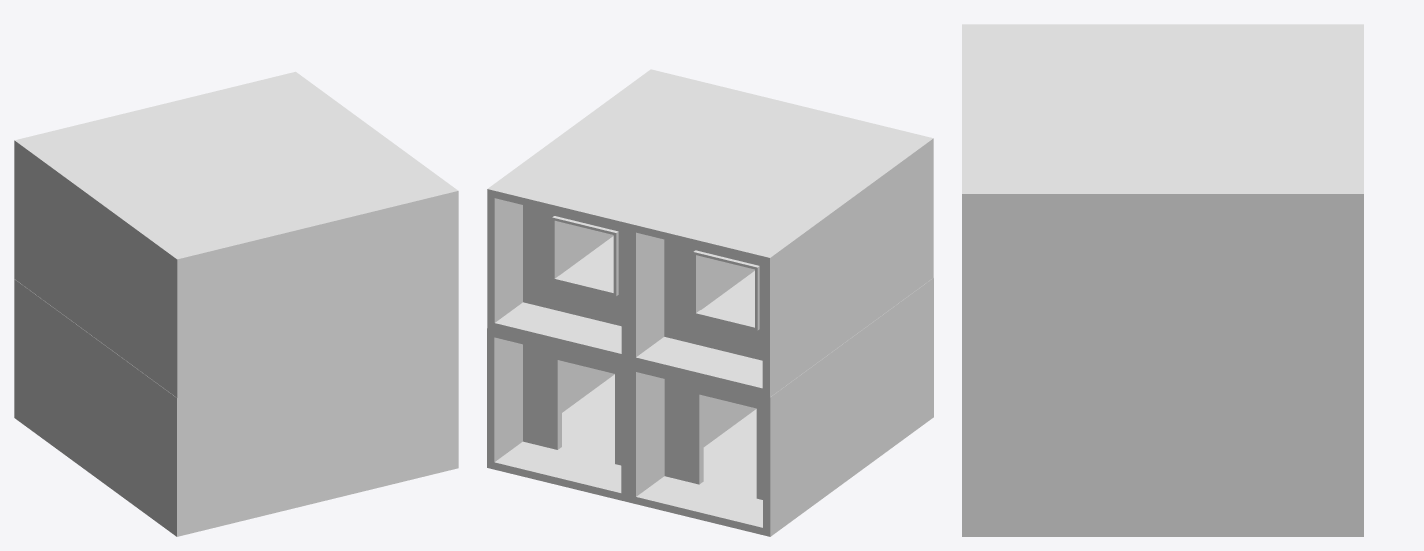
The model's file is Bld_C_high_L1_C.fbx.
3 views of the same model, side by side, from view 1: azimuth 30°, elevation 25°; view 2: azimuth 150°, elevation 25°; view 3: azimuth 270°, elevation 25° (orthographic). The views are drawn at different scales.
Visible parts, largest first — view 1: Bld_C_high_L1_C_LOD0; view 2: Bld_C_high_L1_C_LOD0; view 3: Bld_C_high_L1_C_LOD0.
Part boxes in pixels (x1,y1,x2,y2): Bld_C_high_L1_C_LOD0: (14,71,458,536); Bld_C_high_L1_C_LOD0: (487,69,933,536); Bld_C_high_L1_C_LOD0: (962,24,1363,536).
Size of what is drawn, in the model's own units: 1300 by 1773 by 1448.
Materials: 1 (1 with a texture image).
